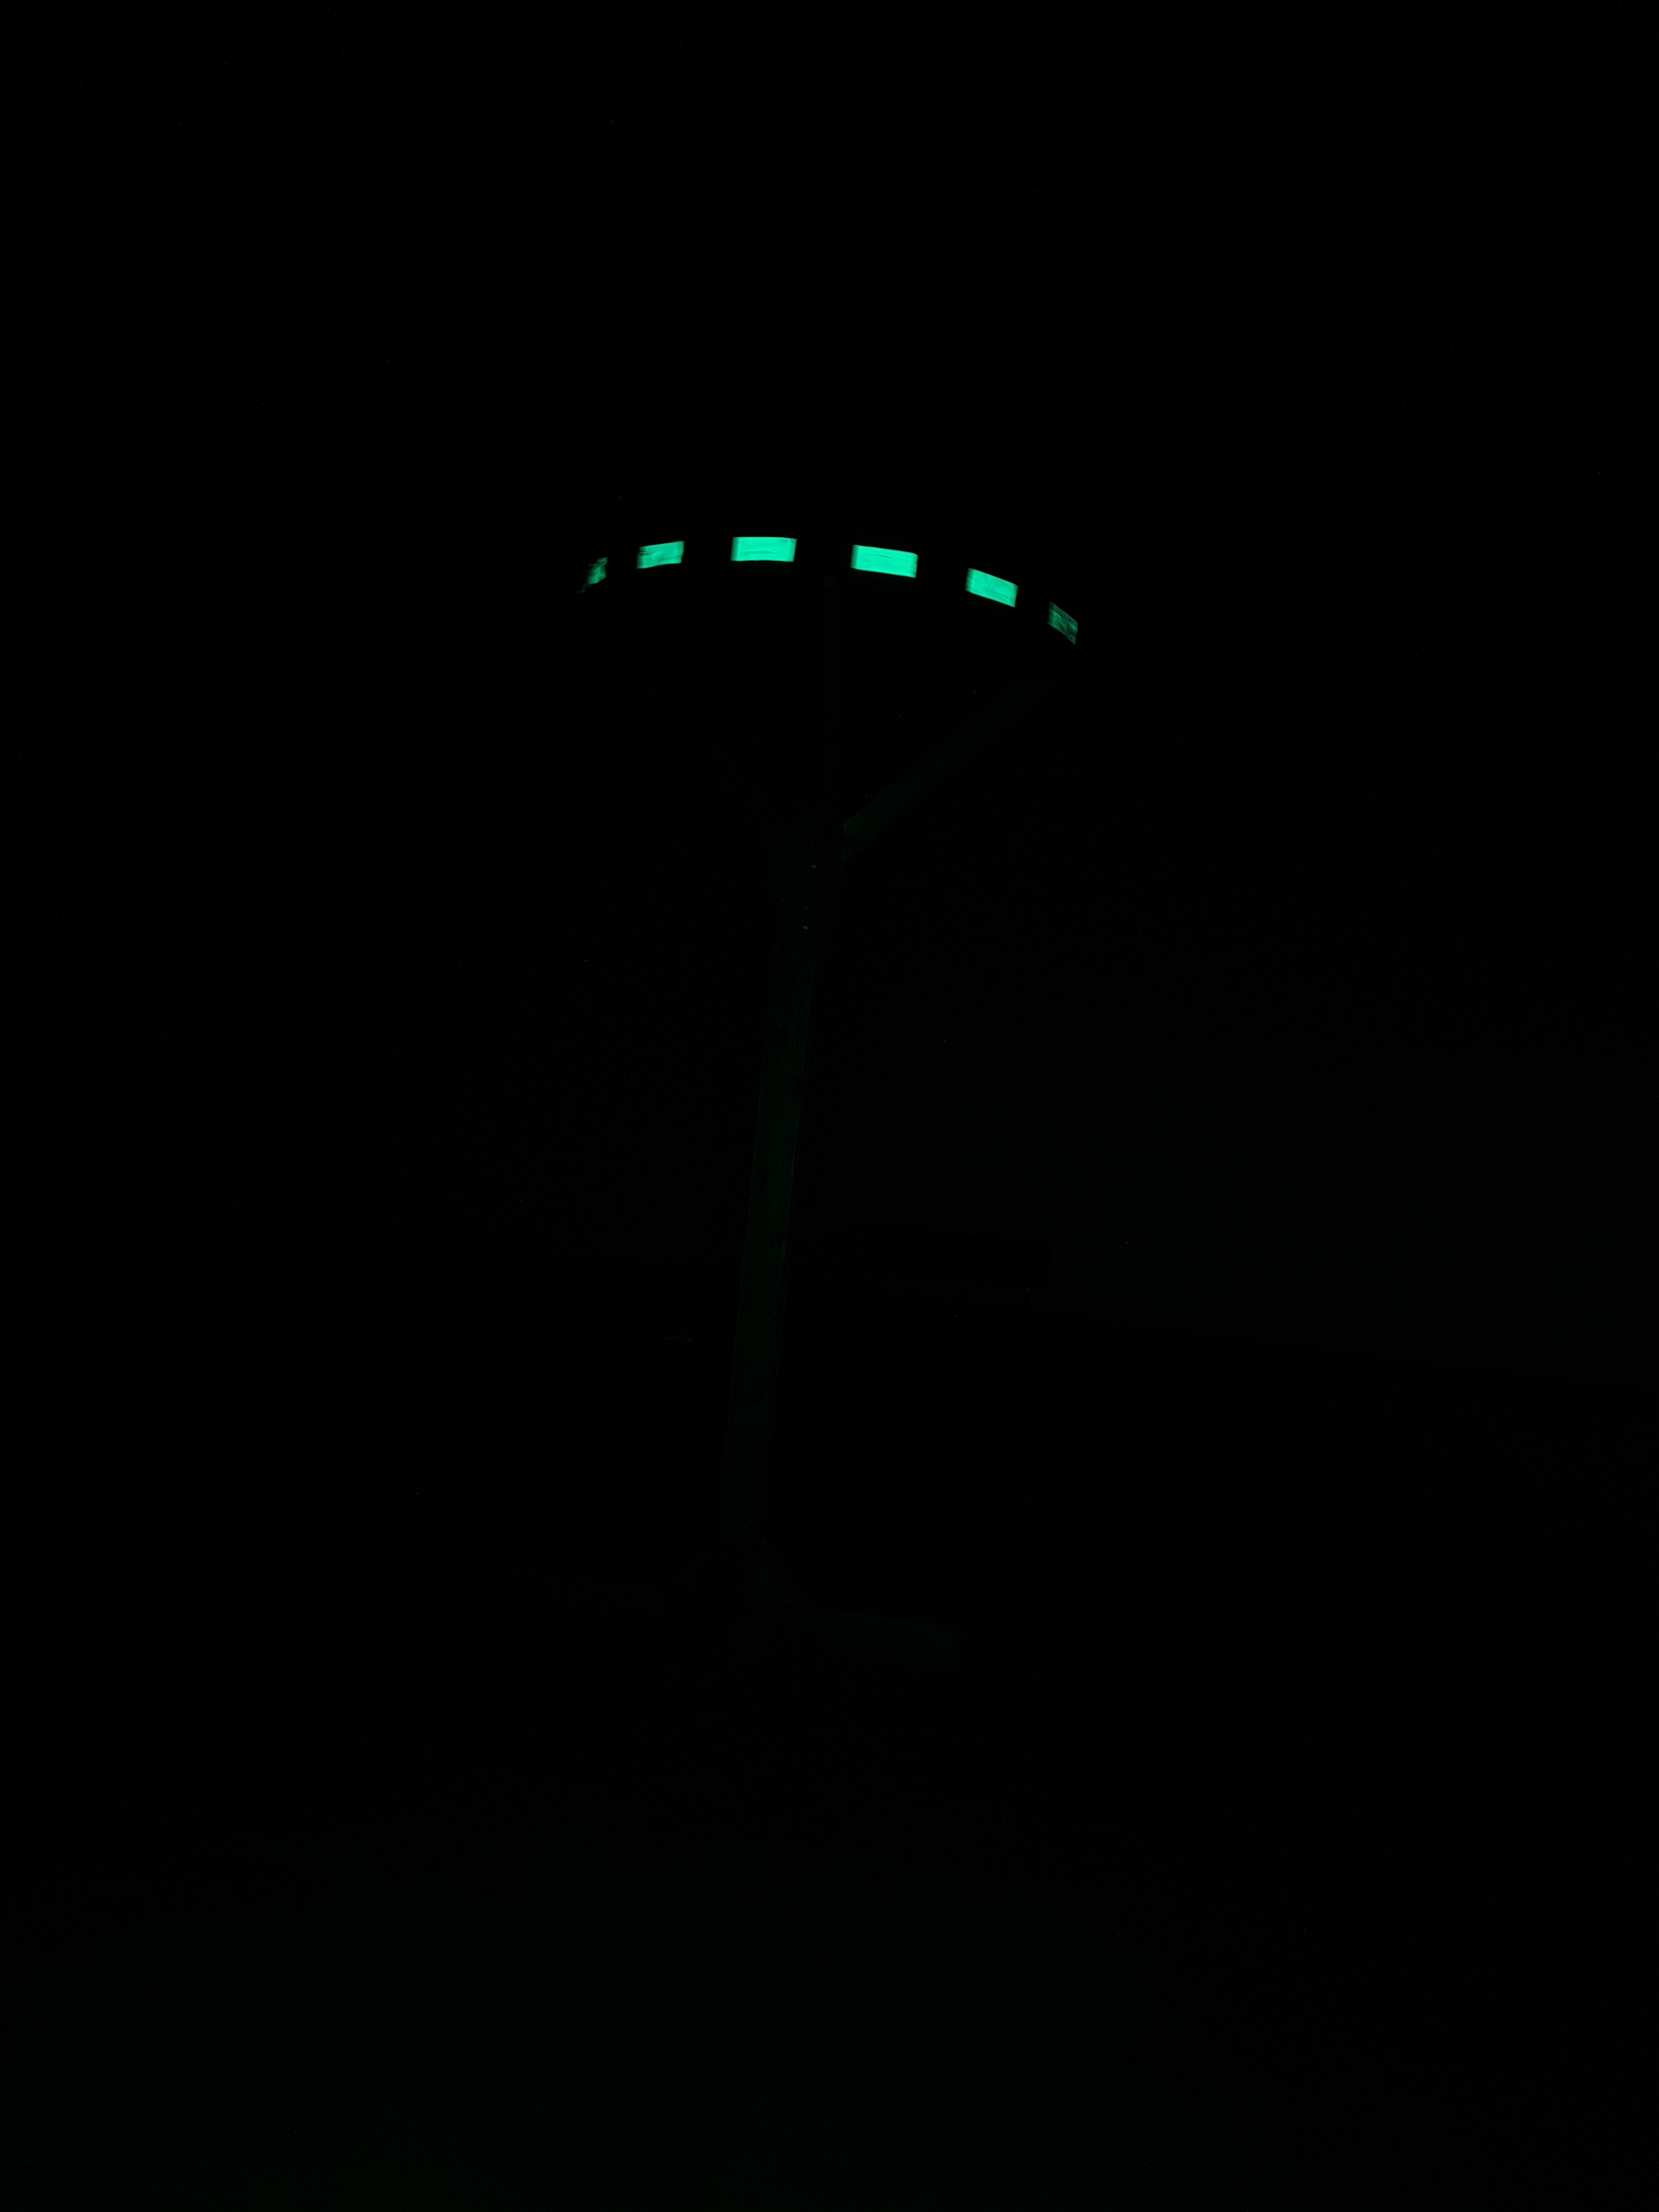hoop: (577, 526, 1093, 657)
